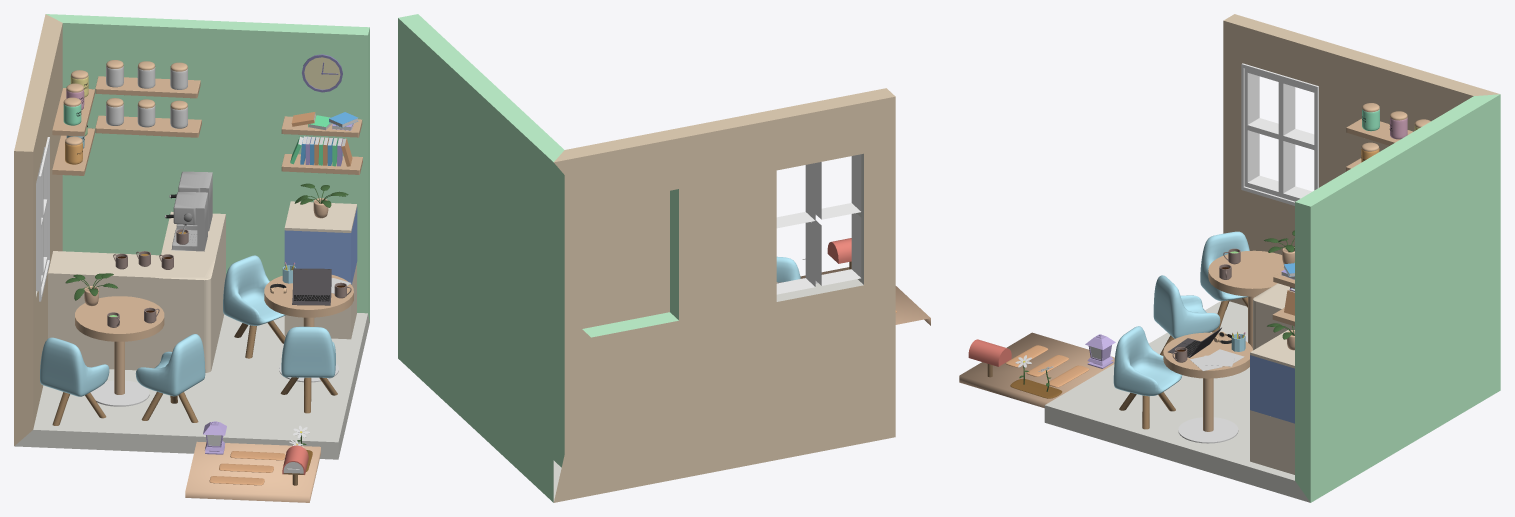
Rendered from cafe_5.glb.
3 renders of one model, left to right at view 1: azimuth 30°, elevation 25°; view 2: azimuth 150°, elevation 25°; view 3: azimuth 270°, elevation 25°, orthographic. The views are drawn at different scales.
Visible parts, largest first — view 1: roomcube, order place, roomcube.001, Circle, Cube.010, Cube.007, Cube.004, Cube.009, Cube.018, tank, Circle.002, Plane.010 (+27 smaller); view 2: roomcube, Plane.010, roomcube.001; view 3: roomcube, Plane.010, roomcube.001, Circle.002, Cube.009, Cube.018, Circle, Cube.007, tank, Cube.004, order place, Cylinder.030 (+2 smaller).
Part boxes in pixels (x1,y1,x2,y2): roomcube: (14, 14, 369, 459); order place: (48, 211, 225, 372); roomcube.001: (185, 441, 320, 502); Circle: (75, 296, 164, 406); Cube.010: (223, 255, 285, 358); Cube.007: (135, 334, 205, 422); Cube.004: (40, 337, 109, 425); Cube.009: (280, 326, 337, 413); Cube.018: (284, 201, 356, 339); tank: (284, 207, 357, 284); Circle.002: (264, 275, 353, 382); Plane.010: (36, 137, 49, 301); roomcube: (398, 14, 895, 502); Plane.010: (776, 154, 861, 294); roomcube.001: (800, 267, 930, 325); roomcube: (1044, 14, 1500, 502); Plane.010: (1241, 63, 1318, 205); roomcube.001: (959, 332, 1114, 407); Circle.002: (1163, 332, 1252, 443); Cube.009: (1113, 326, 1182, 429); Cube.018: (1250, 329, 1294, 474); Circle: (1208, 250, 1284, 348); Cube.007: (1153, 275, 1220, 355); tank: (1250, 355, 1294, 423); Cube.004: (1200, 231, 1249, 332); order place: (1253, 283, 1294, 350); Cylinder.030: (968, 339, 1011, 366).
Bounding box in the file's own units: 14.41 × 10.33 × 17.11.
